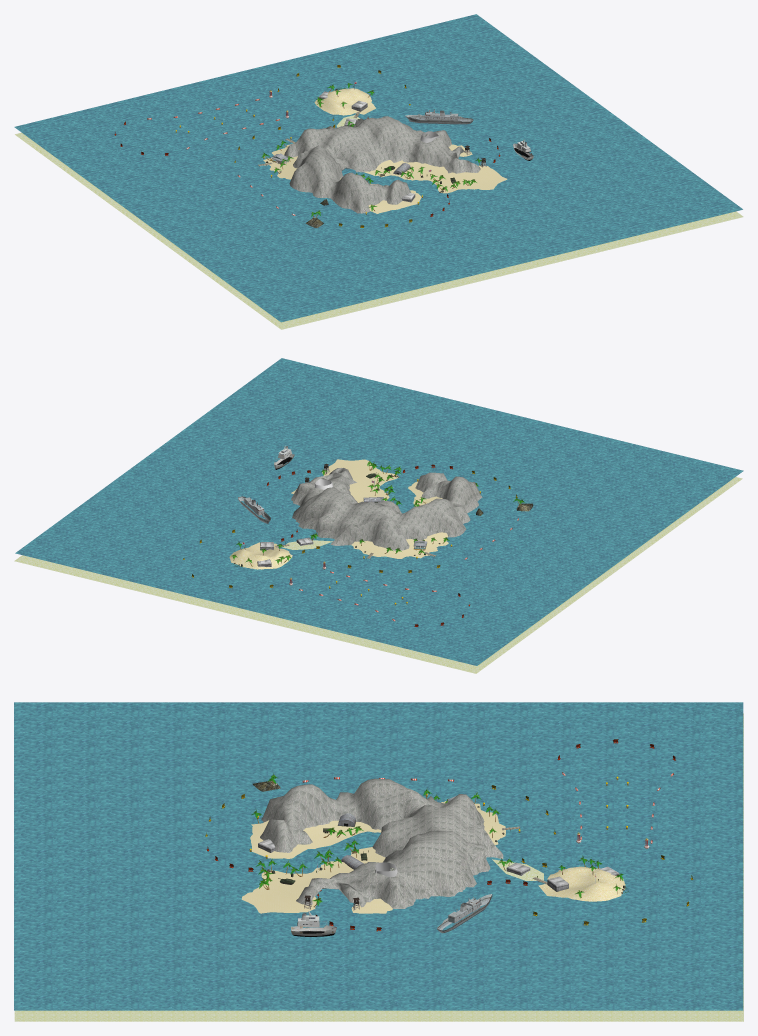
The model's file is Practice Zone.glb.
3 renders of one model, top to bottom at view 1: azimuth 30°, elevation 25°; view 2: azimuth 150°, elevation 25°; view 3: azimuth 270°, elevation 25°, orthographic. The views are drawn at different scales.
Parts seen in each view (by area): view 1: sea* (×8), sea, MAP ile, fond* (×4), plage, fond, mont, face2; view 2: sea* (×8), sea, MAP ile, fond* (×5), plage, mont; view 3: sea* (×8), sea, MAP ile, fond* (×3), plage, mont, face2.
Part boxes in pixels (x1,y1,x2,y2): sea* (×8): (109, 14, 742, 322); sea: (14, 83, 282, 196); MAP ile: (284, 116, 480, 213); fond* (×4): (15, 132, 743, 329); plage: (263, 143, 507, 213); fond: (406, 243, 611, 297); mont: (314, 88, 375, 115); face2: (405, 109, 473, 124); sea* (×8): (15, 358, 743, 622); sea: (298, 556, 571, 665); MAP ile: (291, 468, 482, 550); fond* (×5): (14, 477, 742, 673); plage: (291, 459, 448, 558); mont: (229, 542, 292, 569); sea* (×8): (14, 702, 743, 1010); sea: (484, 702, 743, 821); MAP ile: (260, 778, 503, 908); fond* (×3): (14, 933, 743, 1021); plage: (241, 801, 505, 913); mont: (538, 866, 625, 901); face2: (437, 894, 492, 933).
Bounding box in the file's own units: 401 × 29.8 × 400.
Materials: 37 (36 with a texture image).
